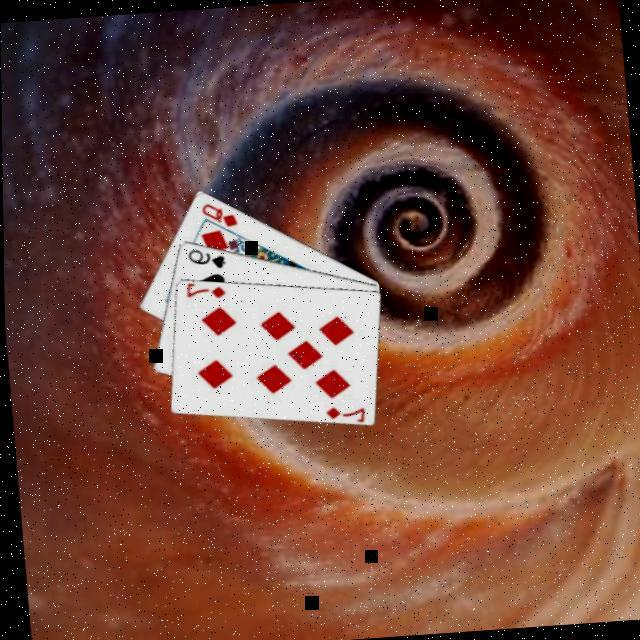7D: (180, 277, 225, 301), (320, 399, 365, 423)
9S: (182, 242, 226, 271)
QD: (196, 196, 238, 229)
